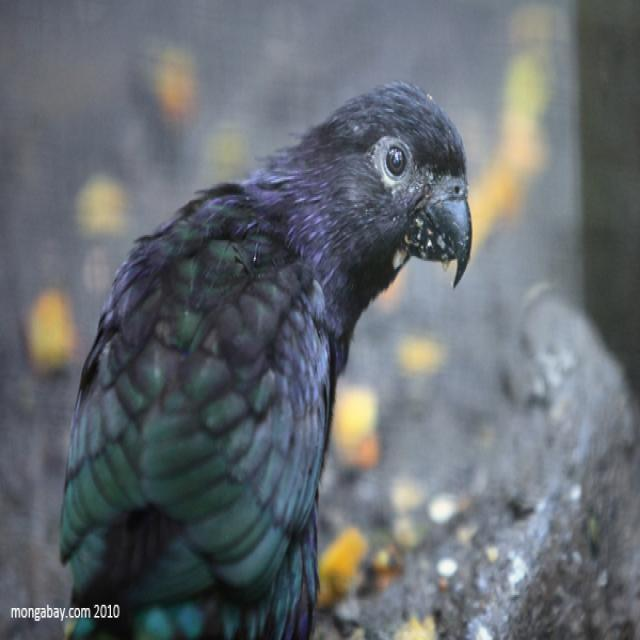Nuri Hitam: (43, 58, 475, 640)
